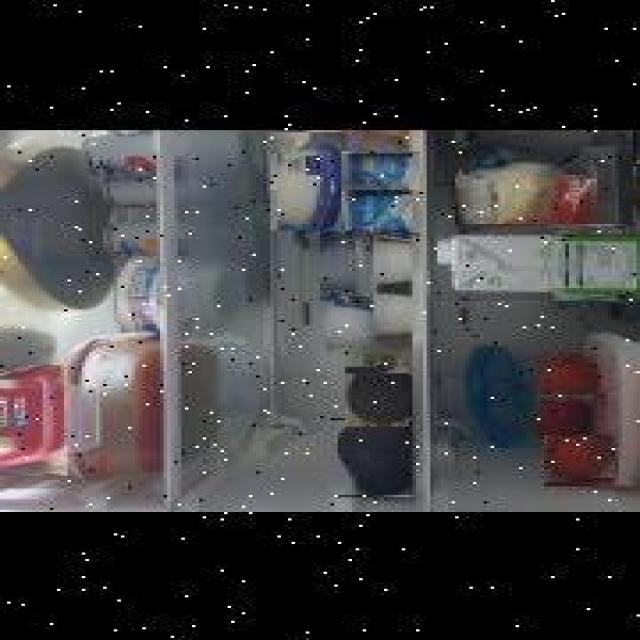avocado: (336, 418, 414, 495), (346, 368, 411, 428)
butter: (0, 364, 68, 474)
cheese: (270, 134, 348, 232), (320, 230, 370, 299)
grated_cheese: (455, 128, 633, 224)
milk: (434, 234, 640, 300)
tomato: (544, 436, 615, 483), (526, 400, 598, 443), (537, 352, 594, 397)
yogurt: (342, 188, 419, 235), (342, 151, 419, 188)
